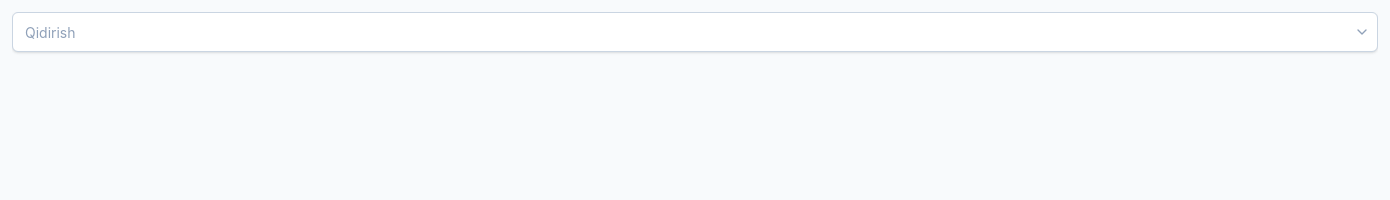
Test: Combobox › sichqoncha bilan tanlash va Esc
The image size is (1390, 200).
Focus the dropdown at (695, 32), box [12, 12, 1378, 52]
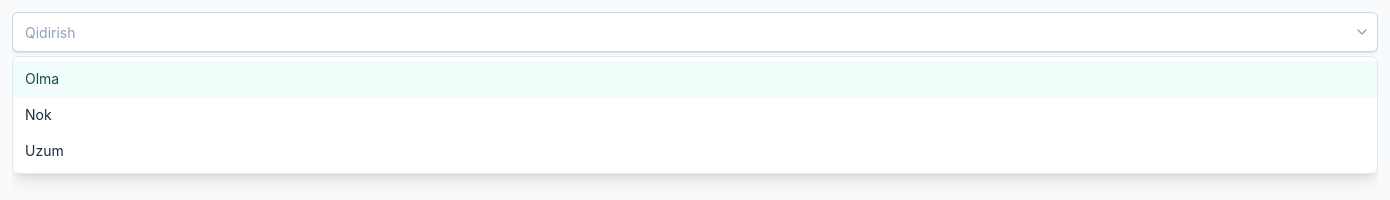
Click the option "Uzum" at (44, 150), box [25, 142, 64, 159]
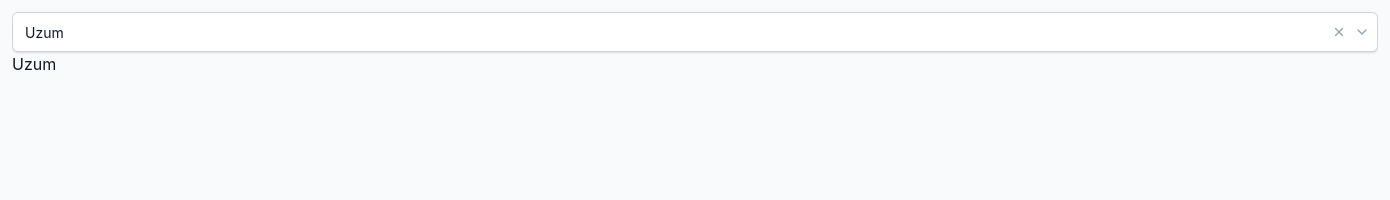
Expected: the text with test id "value" reads "Uzum", [12, 54, 56, 74]
Focus the dropdown at (695, 32), box [12, 12, 1378, 52]
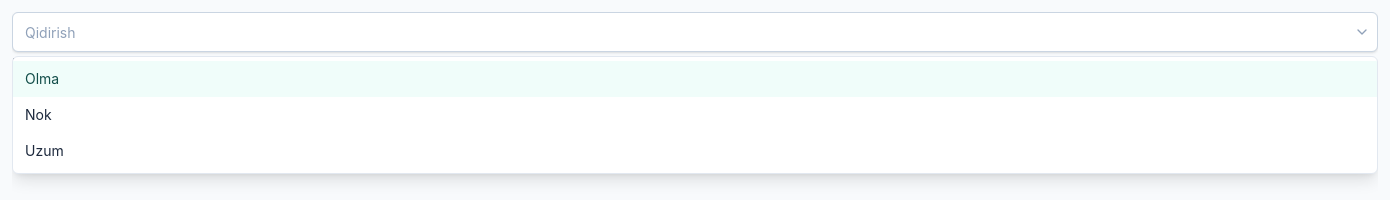
Press Escape in the dropdown, box [12, 12, 1378, 52]
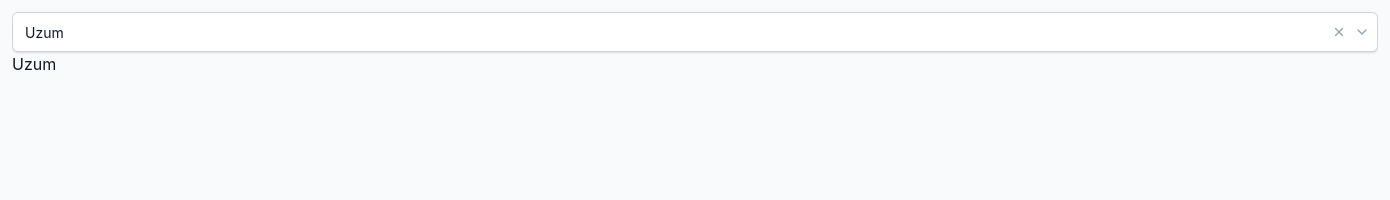
Expected: the list is gone
